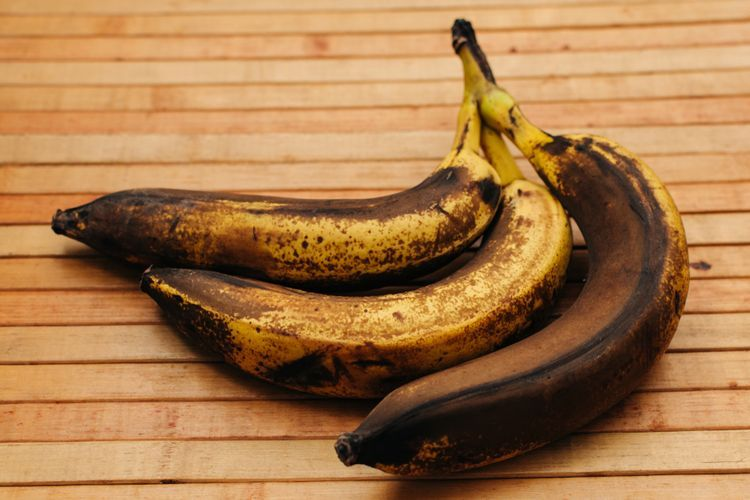mentah: (312, 337, 582, 495), (162, 268, 415, 381), (64, 159, 279, 271)
